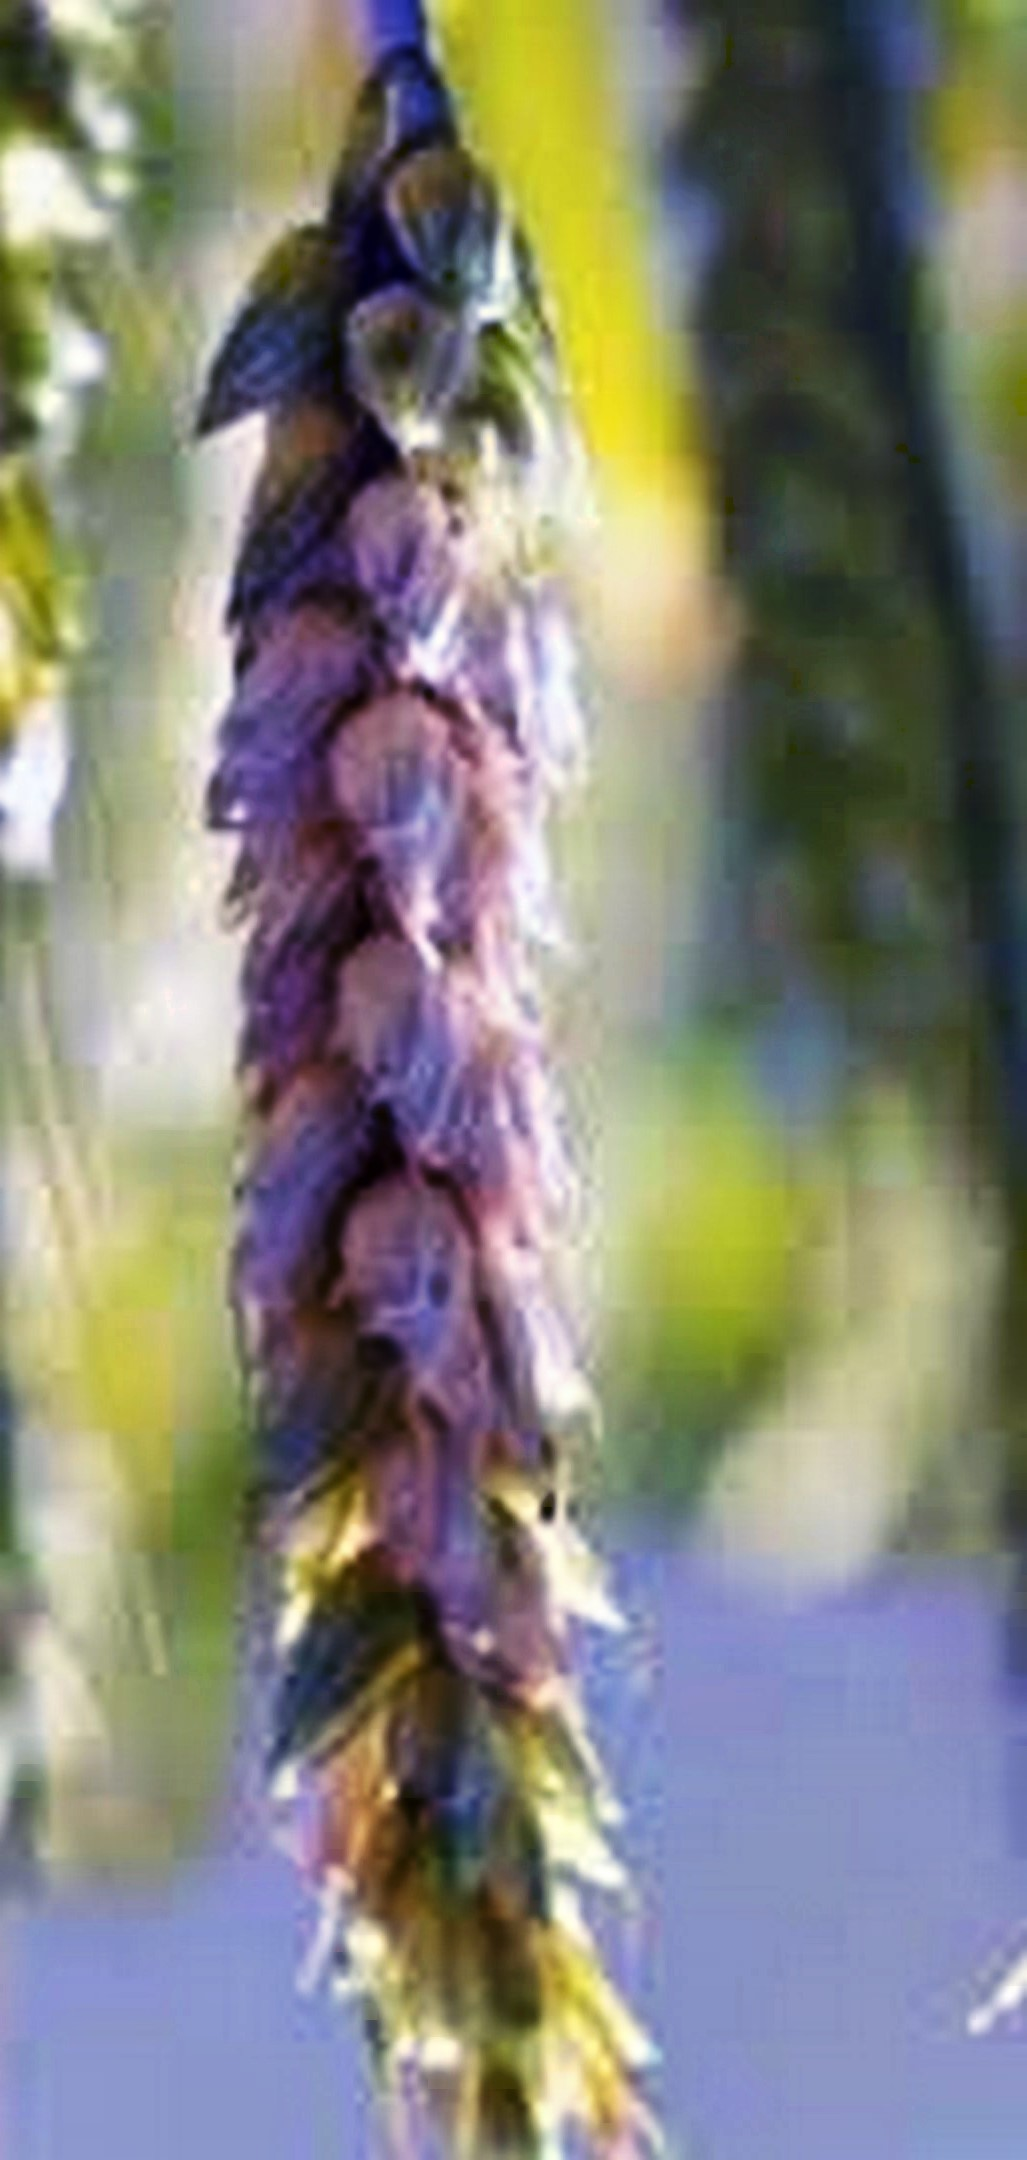Wheat scab: (175, 98, 686, 2064)
